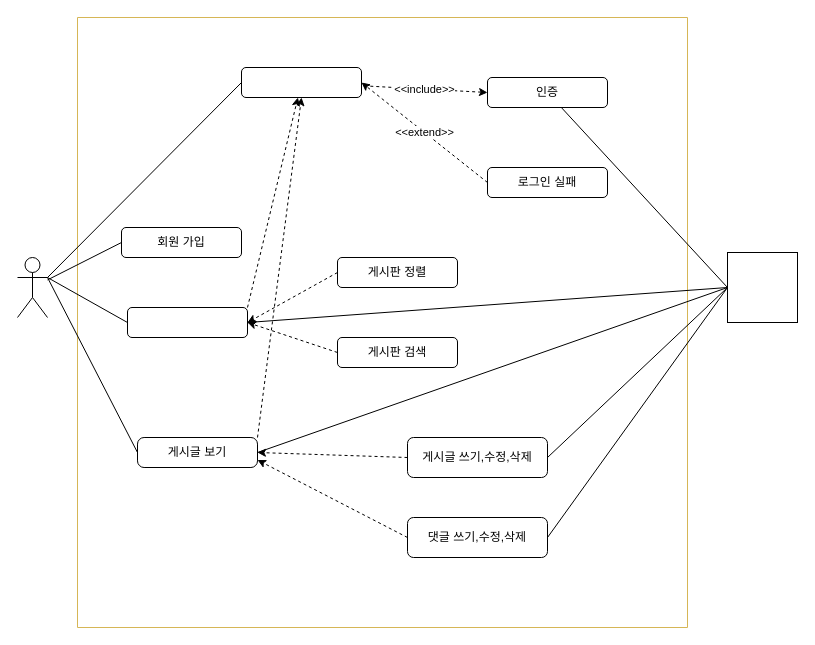
This 815x645 diagram has some shape labels left out. The centre of each missing label's shape, as x and y in pixels:
"Actor" goes at point 32,287.
"DB" goes at point 762,287.
"게시판 보기" goes at point 187,322.
"회원 로그인" goes at point 301,82.
